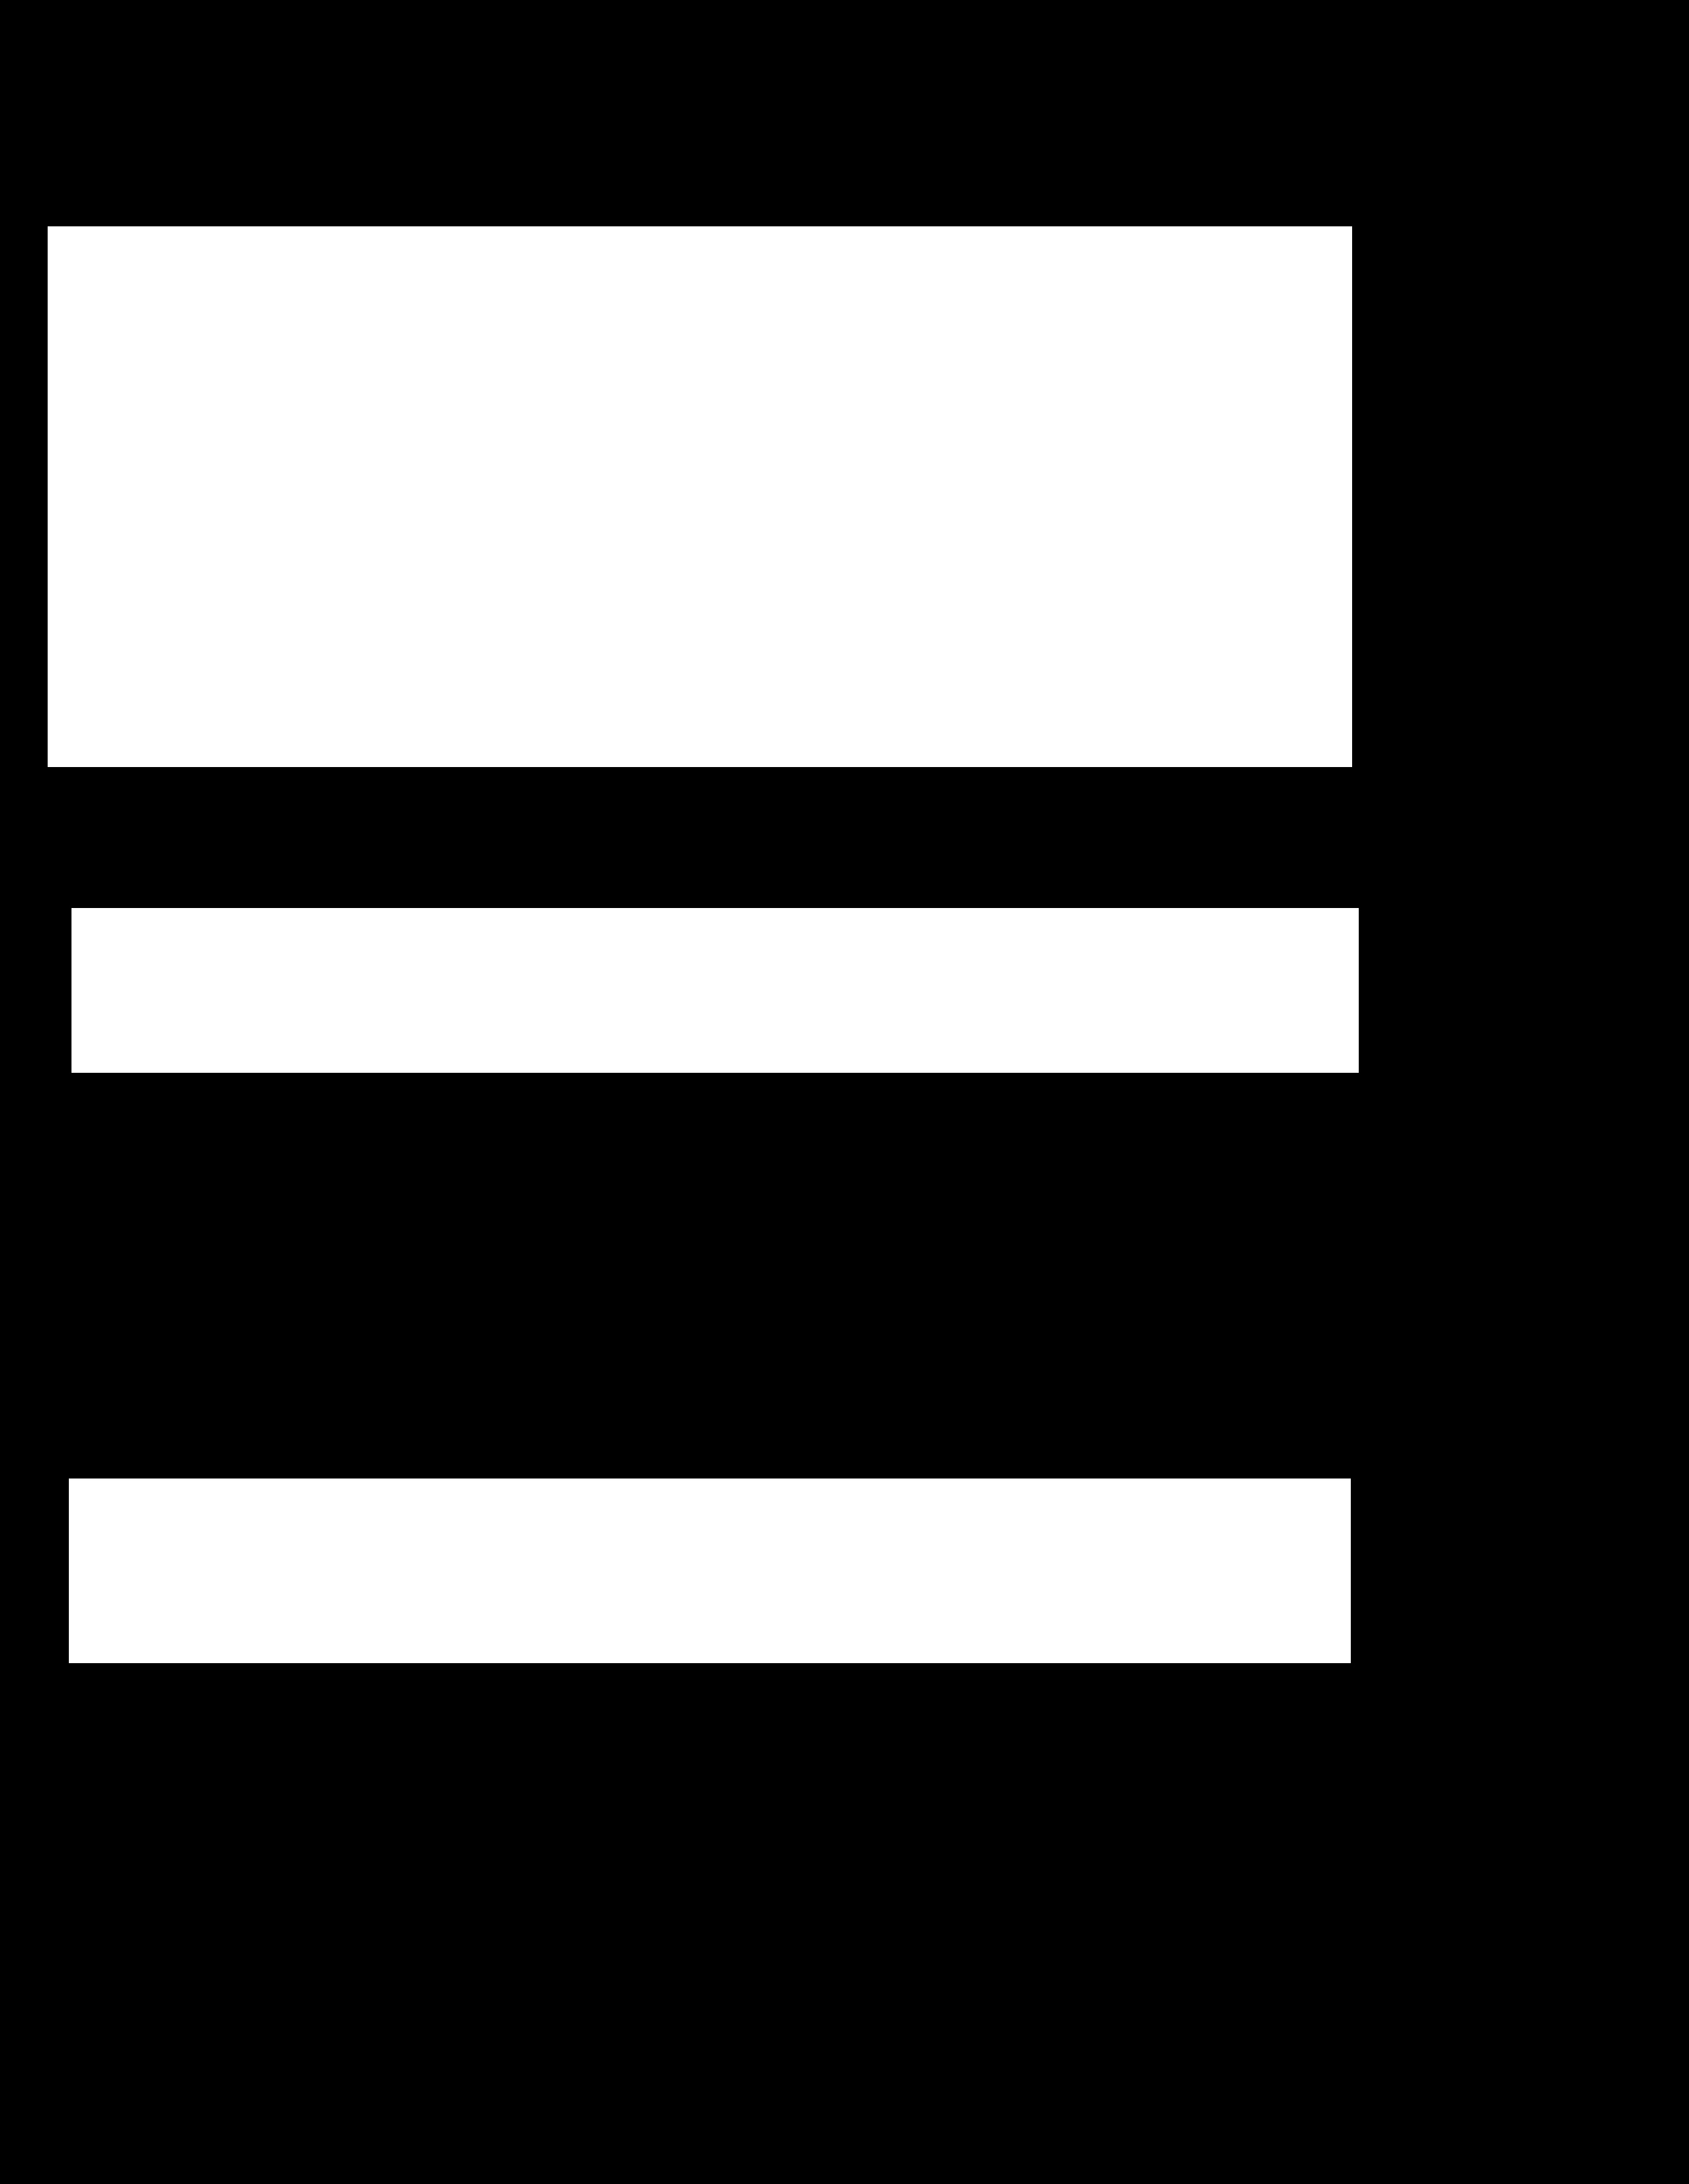table: (48, 227, 1352, 766), (69, 1478, 1350, 1663), (71, 908, 1358, 1072)
